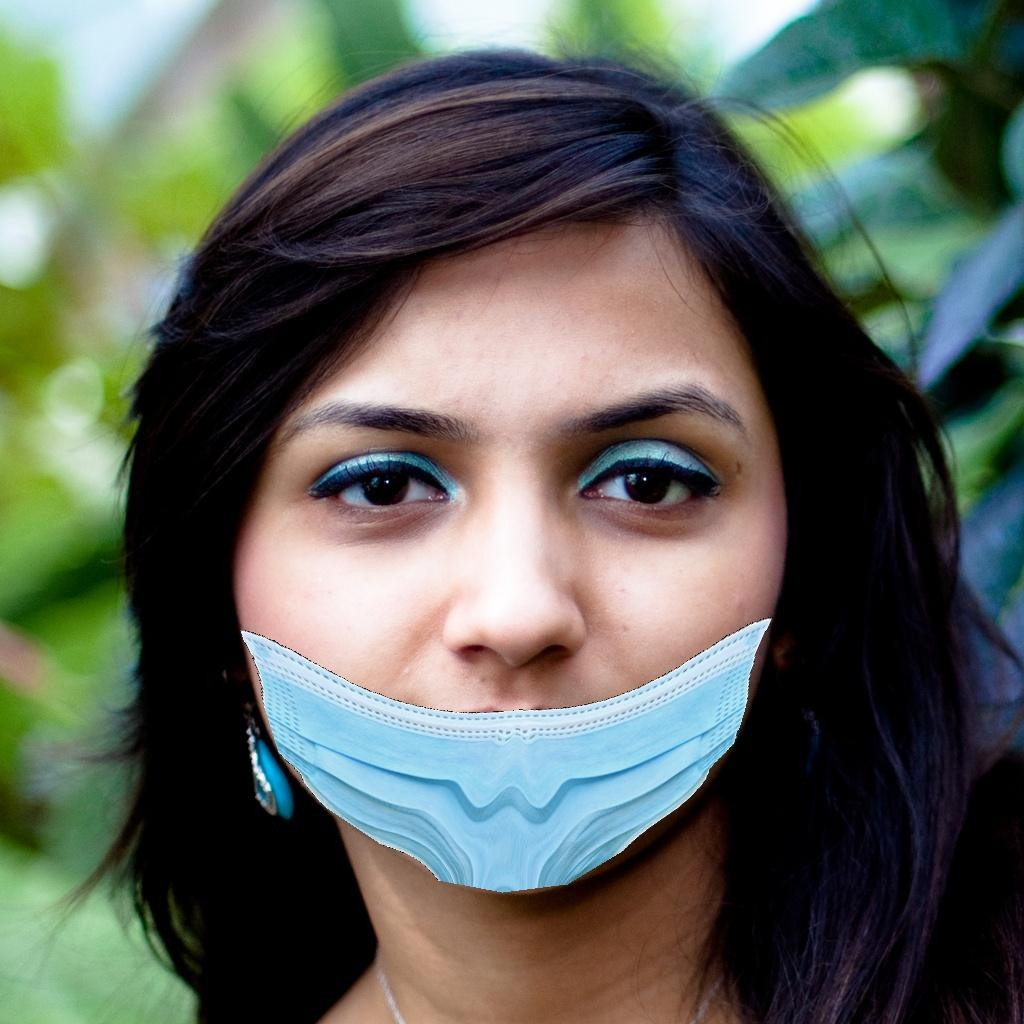Máscara Incorreta: (210, 312, 780, 871)
